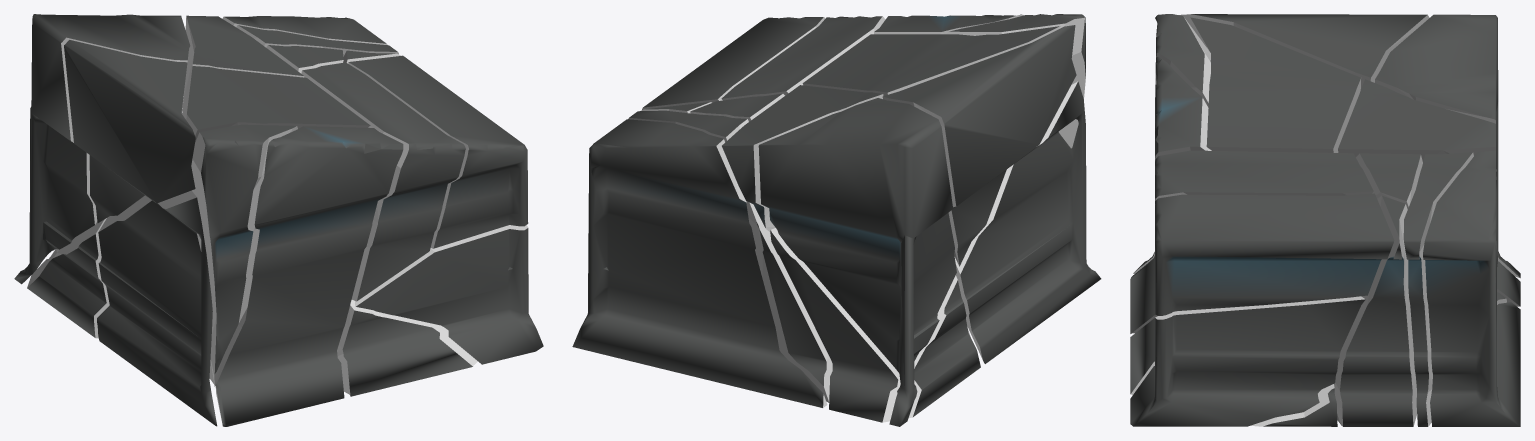
The model's file is Skyscrapers(3).glb.
The picture shows the model from 3 angles, left to right: view 1: azimuth 30°, elevation 25°; view 2: azimuth 150°, elevation 25°; view 3: azimuth 270°, elevation 25°; orthographic projection. The views are drawn at different scales.
Parts seen in each view (by area): view 1: Root, Root.002, Root.014, Root.006, Root.015, Root.003, Root.011, Root.008, Root.004, Root.007, Root.010, Root.012 (+3 smaller); view 2: Root.009, Root.006, Root.002, Root.014, Root.010, Root.004, Root.001, Root.012, Root.011, Root.003, Root.008, Root (+1 smaller); view 3: Root.011, Root.015, Root.009, Root.004, Root.013, Root.006, Root.003, Root.014, Root.012, Root.001, Root, Root.008 (+3 smaller).
Part boxes in pixels (left/top/right/bottom): Root: left=215, top=126, right=403, bottom=426; Root.002: left=97, top=190, right=217, bottom=426; Root.014: left=64, top=40, right=195, bottom=222; Root.006: left=14, top=14, right=190, bottom=284; Root.015: left=355, top=225, right=543, bottom=364; Root.003: left=301, top=62, right=465, bottom=301; Root.011: left=348, top=55, right=528, bottom=248; Root.008: left=191, top=124, right=297, bottom=386; Root.004: left=186, top=66, right=370, bottom=142; Root.007: left=337, top=300, right=477, bottom=396; Root.010: left=27, top=218, right=109, bottom=338; Root.012: left=182, top=15, right=304, bottom=119; Root.009: left=572, top=119, right=827, bottom=407; Root.006: left=758, top=98, right=956, bottom=426; Root.002: left=954, top=81, right=1101, bottom=363; Root.014: left=882, top=25, right=1076, bottom=266; Root.010: left=770, top=228, right=980, bottom=422; Root.004: left=802, top=26, right=1060, bottom=95; Root.001: left=628, top=110, right=832, bottom=402; Root.012: left=722, top=85, right=883, bottom=231; Root.011: left=642, top=17, right=825, bottom=109; Root.003: left=721, top=16, right=885, bottom=100; Root.008: left=946, top=14, right=1085, bottom=148; Root: left=874, top=14, right=1023, bottom=34; Root.011: left=1155, top=193, right=1394, bottom=315; Root.015: left=1130, top=296, right=1365, bottom=426; Root.009: left=1423, top=150, right=1520, bottom=426; Root.004: left=1190, top=17, right=1360, bottom=152; Root.013: left=1334, top=195, right=1416, bottom=426; Root.006: left=1375, top=14, right=1520, bottom=278; Root.003: left=1155, top=150, right=1373, bottom=200; Root.014: left=1178, top=14, right=1429, bottom=89; Root.012: left=1338, top=79, right=1496, bottom=179; Root.001: left=1403, top=152, right=1506, bottom=426; Root: left=1130, top=56, right=1211, bottom=333; Root.008: left=1155, top=14, right=1210, bottom=109.
Bounding box in the file's own units: 4.61 × 3.7 × 4.96.
